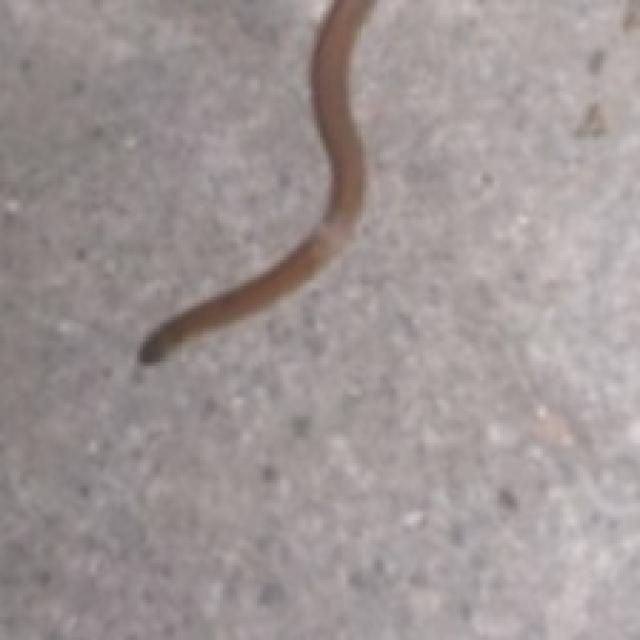gervais worm snake: (137, 0, 374, 363)
